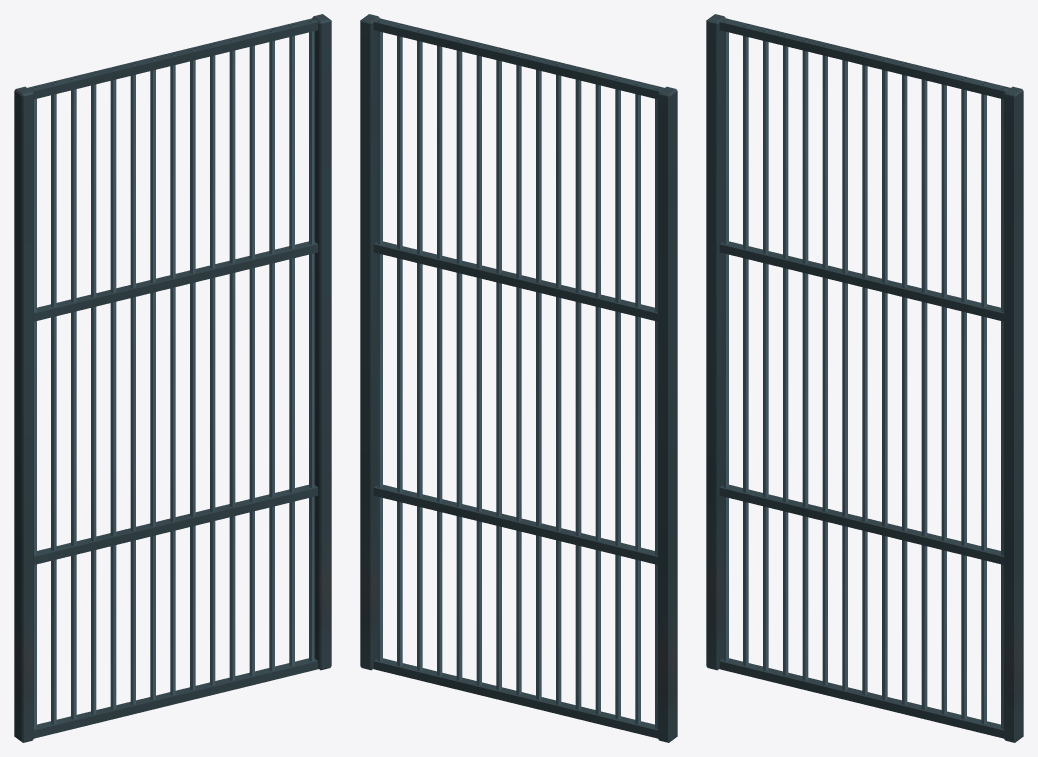
Rendered from bars_cell.fbx.
3 views of the same model, side by side, from view 1: azimuth 30°, elevation 25°; view 2: azimuth 150°, elevation 25°; view 3: azimuth 330°, elevation 25° (orthographic).
Visible parts, largest first — view 1: bars_cell; view 2: bars_cell; view 3: bars_cell.
Boxes of the visible parts, box(x1,y1,x2,y2) form: bars_cell: box(14, 14, 331, 742); bars_cell: box(360, 14, 677, 742); bars_cell: box(706, 14, 1023, 742).
Bounding box in the file's own units: 2 × 4 × 0.1.
Materials: 1 (1 with a texture image).
